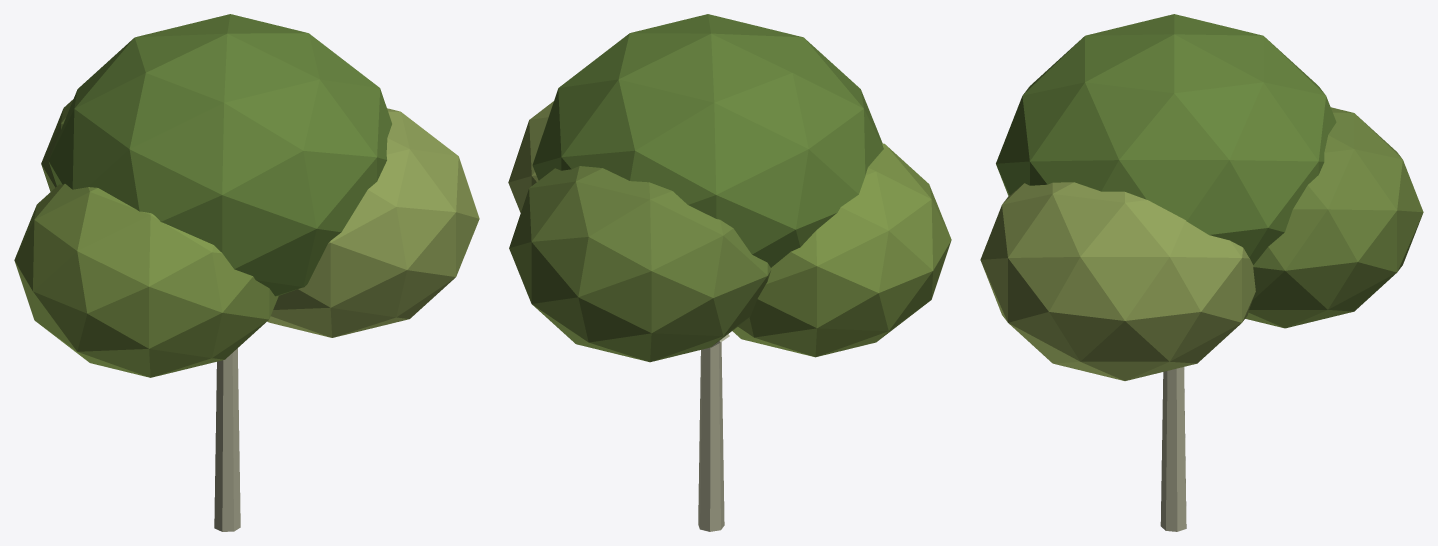
File: forest_birch.glb
3 renders of one model, left to right at view 1: azimuth 30°, elevation 25°; view 2: azimuth 150°, elevation 25°; view 3: azimuth 270°, elevation 25°, orthographic.
Visible parts, largest first — view 1: forest_birch_LOD0; view 2: forest_birch_LOD0; view 3: forest_birch_LOD0.
Part boxes in pixels (x1,y1,x2,y2): forest_birch_LOD0: [14, 14, 479, 531]; forest_birch_LOD0: [508, 14, 951, 531]; forest_birch_LOD0: [980, 14, 1423, 531].
Size of what is drawn, in the model's own units: 7.8 by 8.82 by 7.2.
